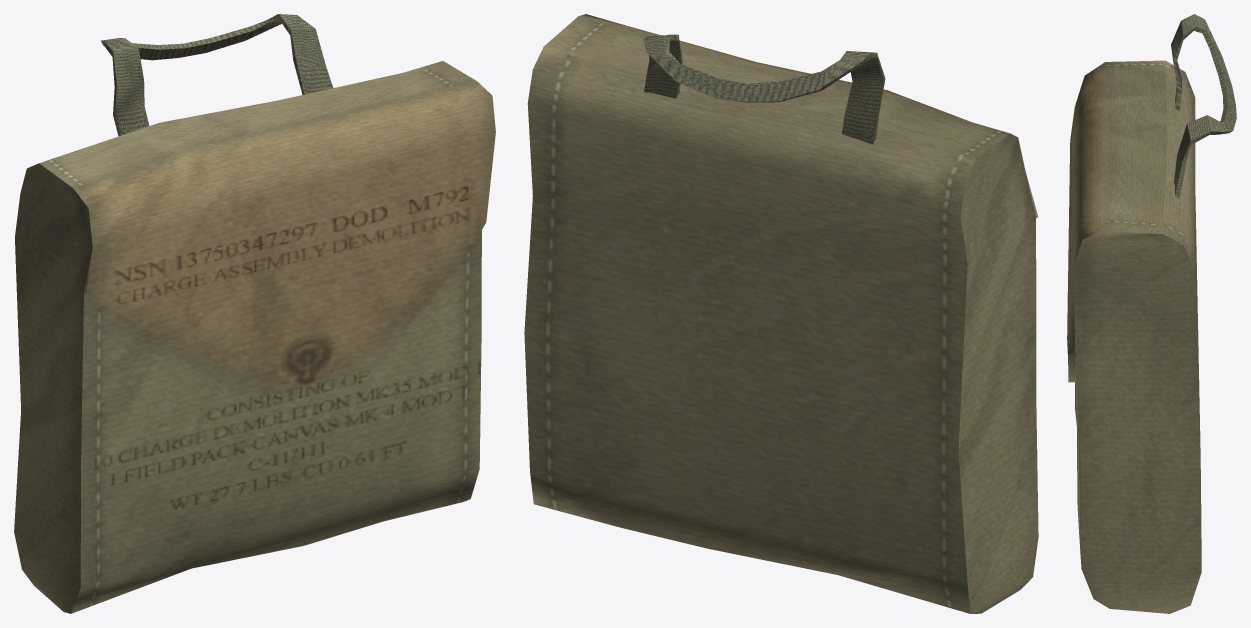
File: stch_3ad.glb
3 views of the same model, side by side, from view 1: azimuth 30°, elevation 25°; view 2: azimuth 150°, elevation 25°; view 3: azimuth 270°, elevation 25° (orthographic). The views are drawn at different scales.
Visible parts, largest first — view 1: _stch_3ad; view 2: _stch_3ad; view 3: _stch_3ad.
Part boxes in pixels (x1,y1,x2,y2): _stch_3ad: (14, 14, 495, 613); _stch_3ad: (524, 14, 1038, 613); _stch_3ad: (1067, 14, 1236, 613).
Bounding box in the file's own units: 0.2836 × 0.3324 × 0.1099.
Materials: 1 (1 with a texture image).
